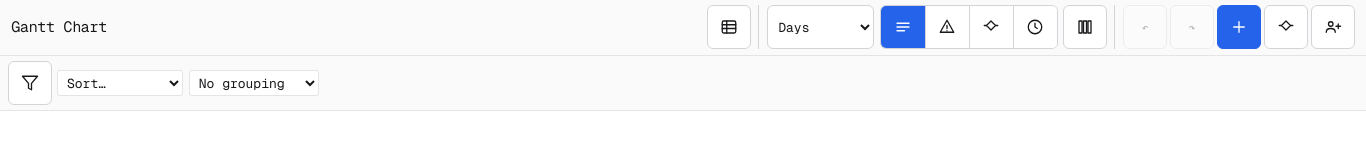
GanttView › toggles the task grid only on Android
The width and height of the screenshot is (1366, 160).
Click the button named "Show task list" at (728, 27), box 706,5 -> 750,49
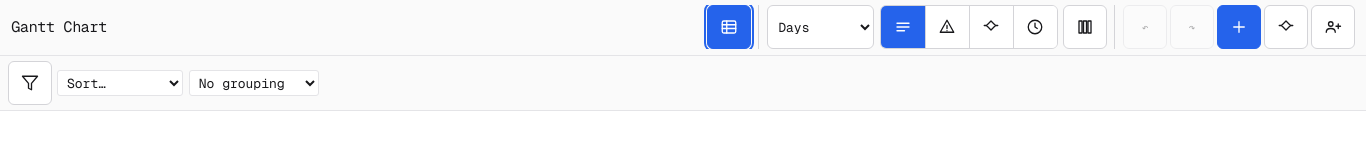
expect the button named "Hide task list" is shown: met, box 706,5 -> 750,49
